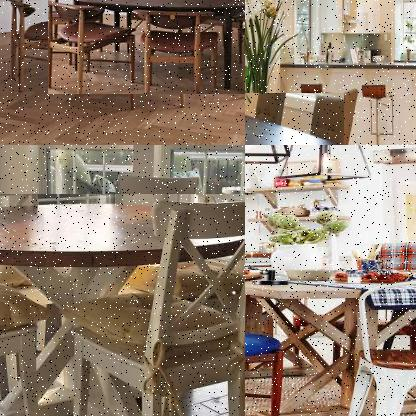table: (0, 194, 244, 415), (245, 270, 415, 415), (47, 0, 244, 96), (245, 93, 346, 144)
